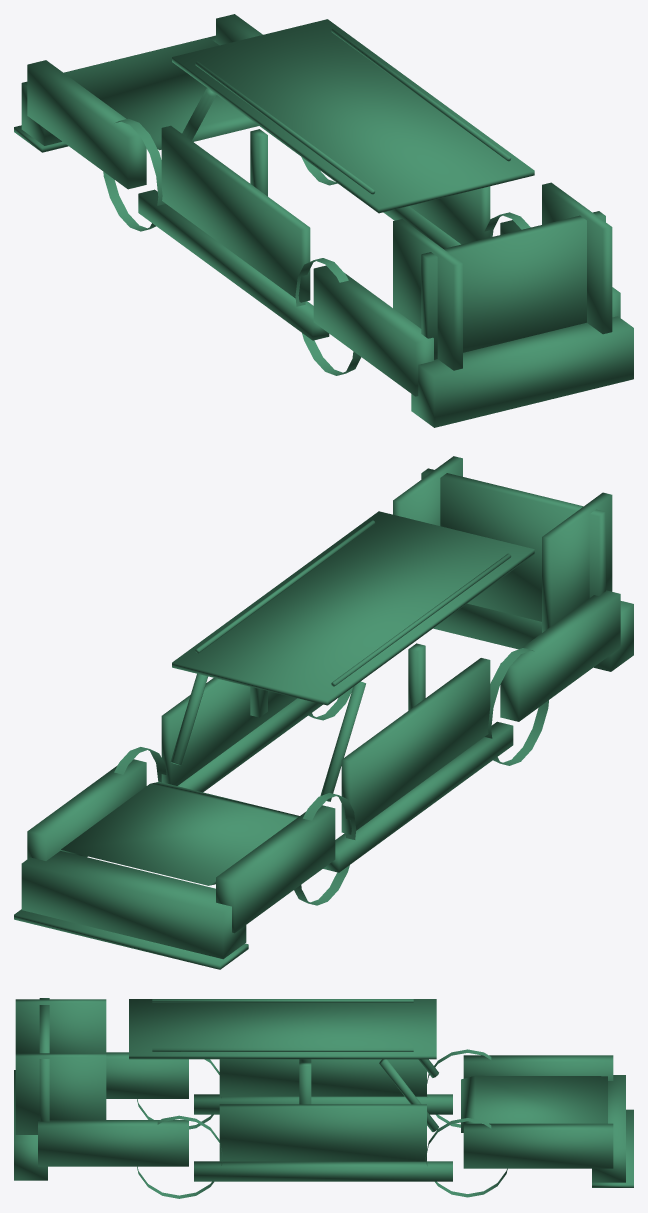
File: body_station_wagon.glb
3 renders of one model, top to bottom at view 1: azimuth 30°, elevation 25°; view 2: azimuth 150°, elevation 25°; view 3: azimuth 270°, elevation 25°, orthographic. The views are drawn at different scales.
Visible parts, largest first — view 1: BODY_Cabin, BODY_RearClip, BODY_FrontClip; view 2: BODY_Cabin, BODY_FrontClip, BODY_RearClip; view 3: BODY_Cabin, BODY_RearClip, BODY_FrontClip.
Boxes of the visible parts, box(x1,y1,x2,y2) form: BODY_Cabin: box(138, 19, 534, 340); BODY_RearClip: box(295, 182, 633, 427); BODY_FrontClip: box(14, 14, 337, 231); BODY_Cabin: box(161, 511, 534, 872); BODY_FrontClip: box(14, 747, 356, 969); BODY_RearClip: box(308, 456, 633, 765); BODY_Cabin: box(129, 999, 452, 1181); BODY_RearClip: box(14, 998, 223, 1198); BODY_FrontClip: box(425, 1049, 633, 1197).
Bounding box in the file's own units: 1.78 × 1.54 × 6.19.
